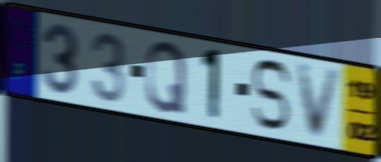1: (197, 46, 222, 126)
3: (41, 21, 79, 96), (90, 30, 126, 104)
Q: (144, 39, 189, 116)
S: (249, 57, 294, 133)
V: (294, 62, 345, 141)
